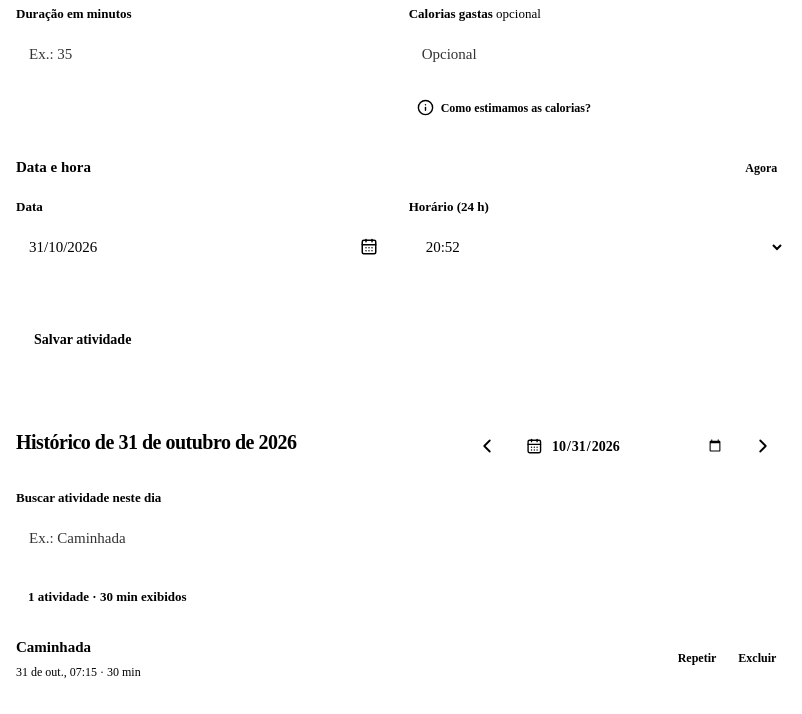
Scenario: histórico de atividades por dia › na variante limpa junto ao vazio e restaura lista e foco
(page scrolled)
Type "corrida" into the search field labelled "Buscar atividade neste dia" at (401, 538), box x1=16 y1=514 x2=785 y2=562
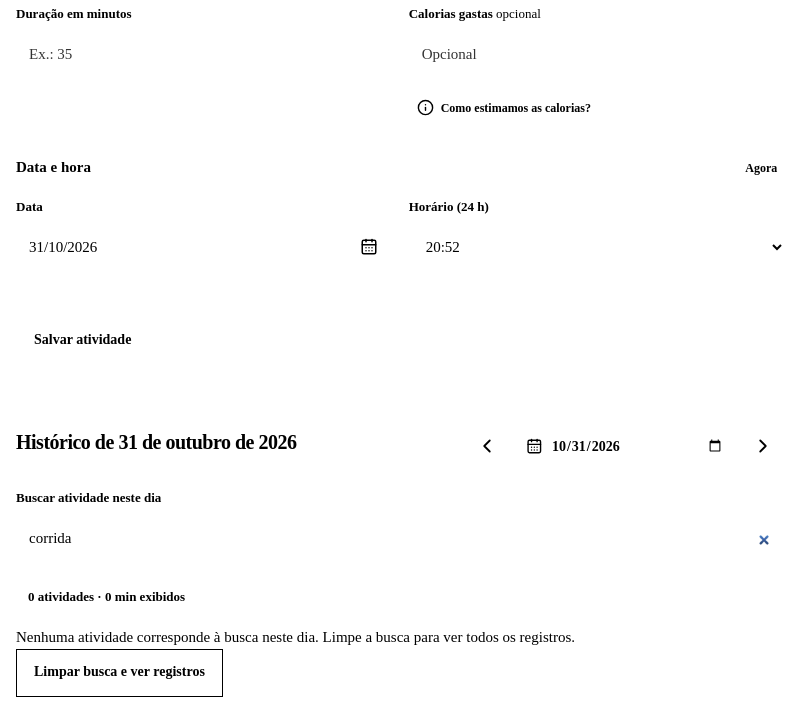
Click the button "Limpar busca e ver registros" at (119, 672), box x1=16 y1=648 x2=223 y2=696
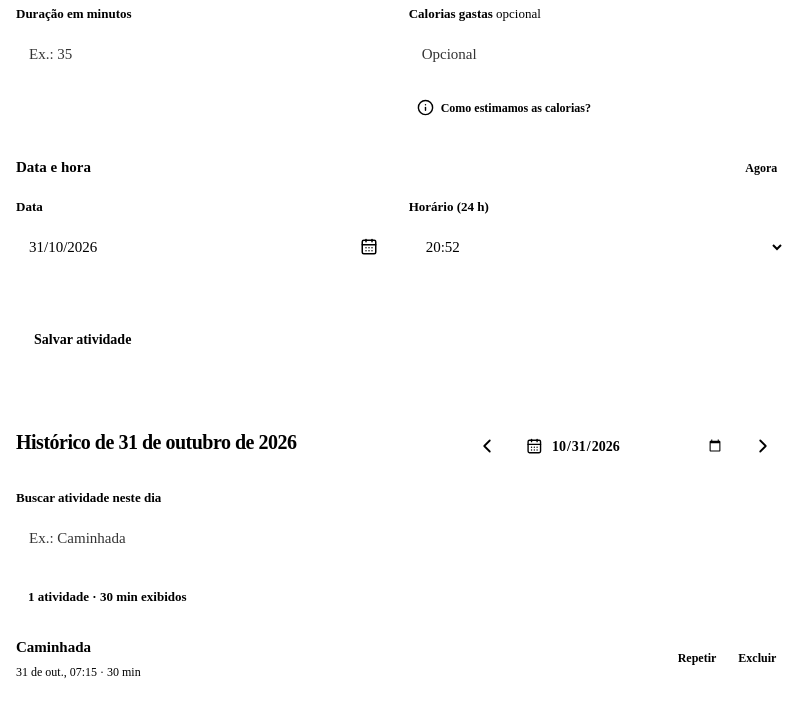
expect the search field labelled "Buscar atividade neste dia" is empty: met, box x1=16 y1=514 x2=785 y2=562
expect the text "Caminhada" is shown: met, box x1=16 y1=639 x2=91 y2=655
